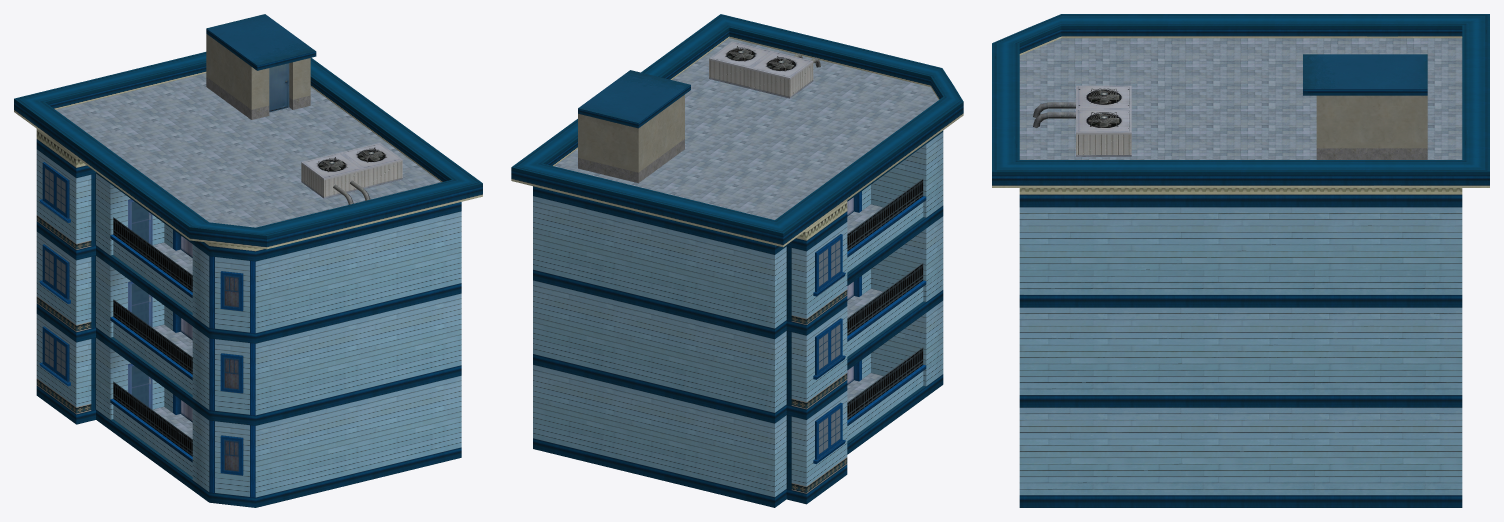
Rendered from MHouseC.fbx.
The picture shows the model from 3 angles, left to right: view 1: azimuth 30°, elevation 25°; view 2: azimuth 150°, elevation 25°; view 3: azimuth 270°, elevation 25°; orthographic projection. The views are drawn at different scales.
Parts seen in each view (by area): view 1: ct2_02_n1_ks2_MhouseC_05; view 2: ct2_02_n1_ks2_MhouseC_05; view 3: ct2_02_n1_ks2_MhouseC_05.
Part boxes in pixels (x1,y1,x2,y2): ct2_02_n1_ks2_MhouseC_05: (14, 14, 482, 507); ct2_02_n1_ks2_MhouseC_05: (511, 14, 963, 507); ct2_02_n1_ks2_MhouseC_05: (992, 14, 1489, 507).
Bounding box in the file's own units: 1507 × 1760 × 1980.
